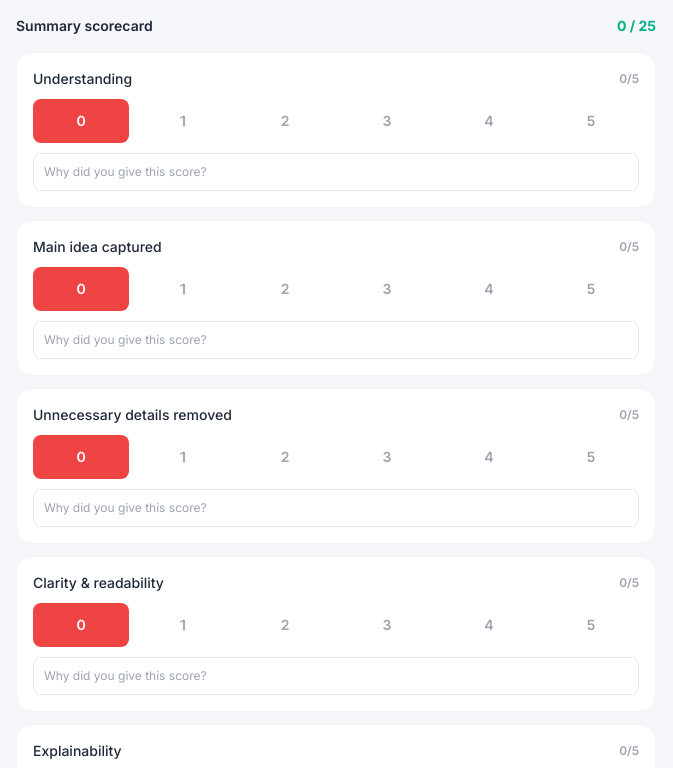
Test: EvaluationStage running total › updates live as criteria scores are picked
The width and height of the screenshot is (673, 768).
# First criterion row: click the "5" button
Step 1. Click the 1st button "5" → [591, 121], box [543,99,639,143]
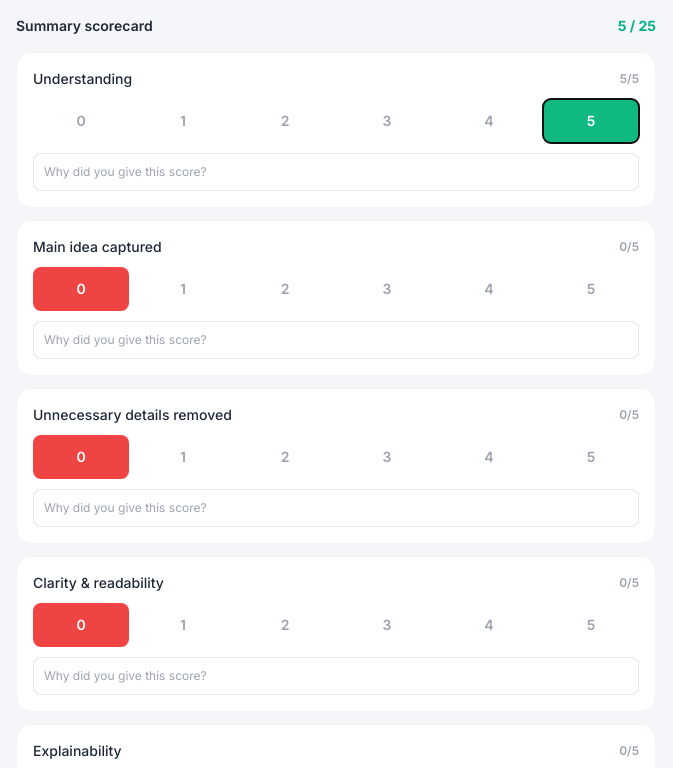
Check: the text "5 / 25" is shown, box [618,16,656,36]
# Second criterion row: click the "3" button
Step 2. Click the button "3" below "Main idea captured" → [387, 289], box [339,267,435,311]
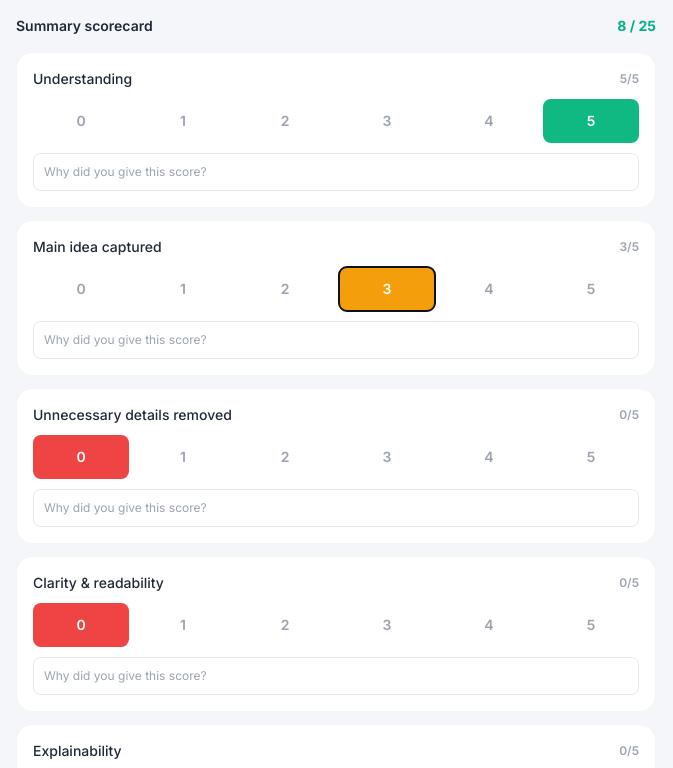
Check: the text "8 / 25" is shown, box [617,16,656,36]
